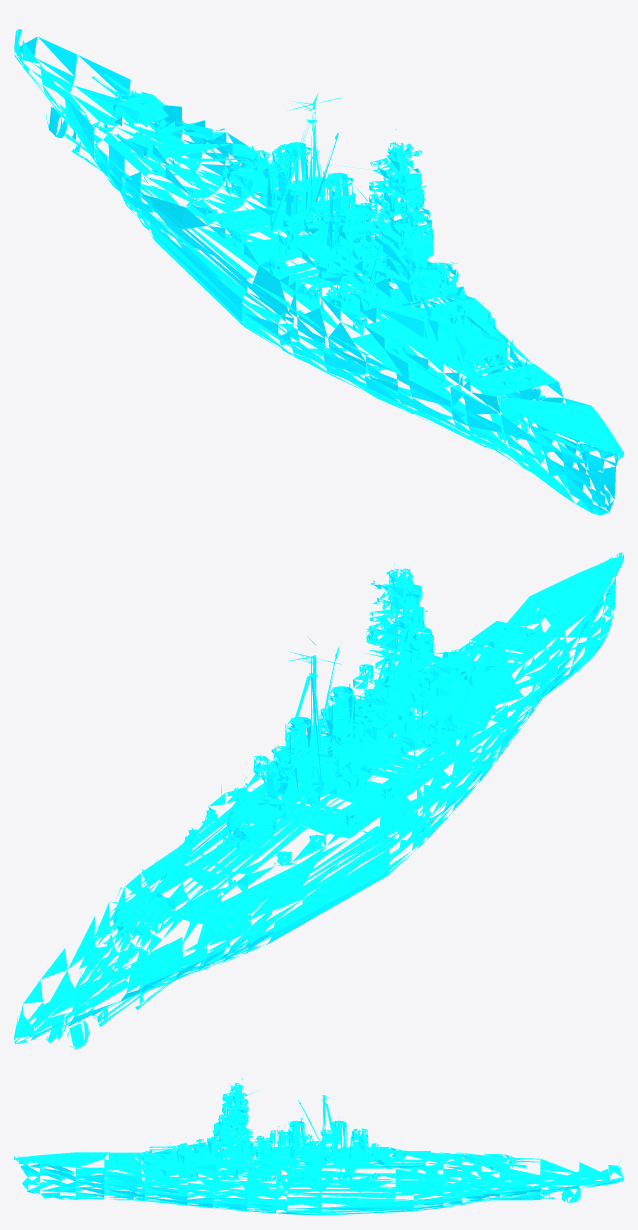
Rendered from Kongo.glb.
The picture shows the model from 3 angles, top to bottom: view 1: azimuth 30°, elevation 25°; view 2: azimuth 150°, elevation 25°; view 3: azimuth 270°, elevation 25°; orthographic projection. The views are drawn at different scales.
Bounding box in the file's own units: 2.07 × 3.26 × 14.78.
